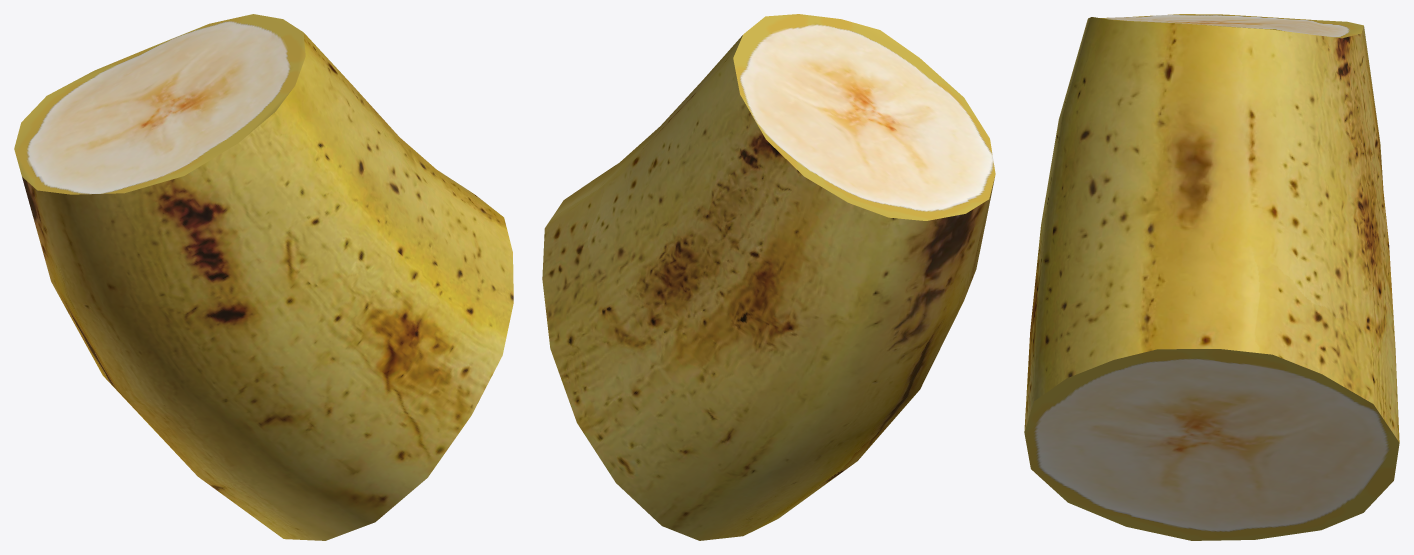
The model's file is BananaBonus_01.fbx.
3 renders of one model, left to right at view 1: azimuth 30°, elevation 25°; view 2: azimuth 150°, elevation 25°; view 3: azimuth 270°, elevation 25°, orthographic. The views are drawn at different scales.
Parts seen in each view (by area): view 1: BananaBonus_01; view 2: BananaBonus_01; view 3: BananaBonus_01.
Boxes of the visible parts, bbox=[...] form: BananaBonus_01: bbox=[14, 14, 513, 540]; BananaBonus_01: bbox=[542, 14, 995, 540]; BananaBonus_01: bbox=[1024, 14, 1399, 540].
Size of the model in its own units: 0.4311 by 0.4778 by 0.3091.
Materials: 1 (1 with a texture image).
